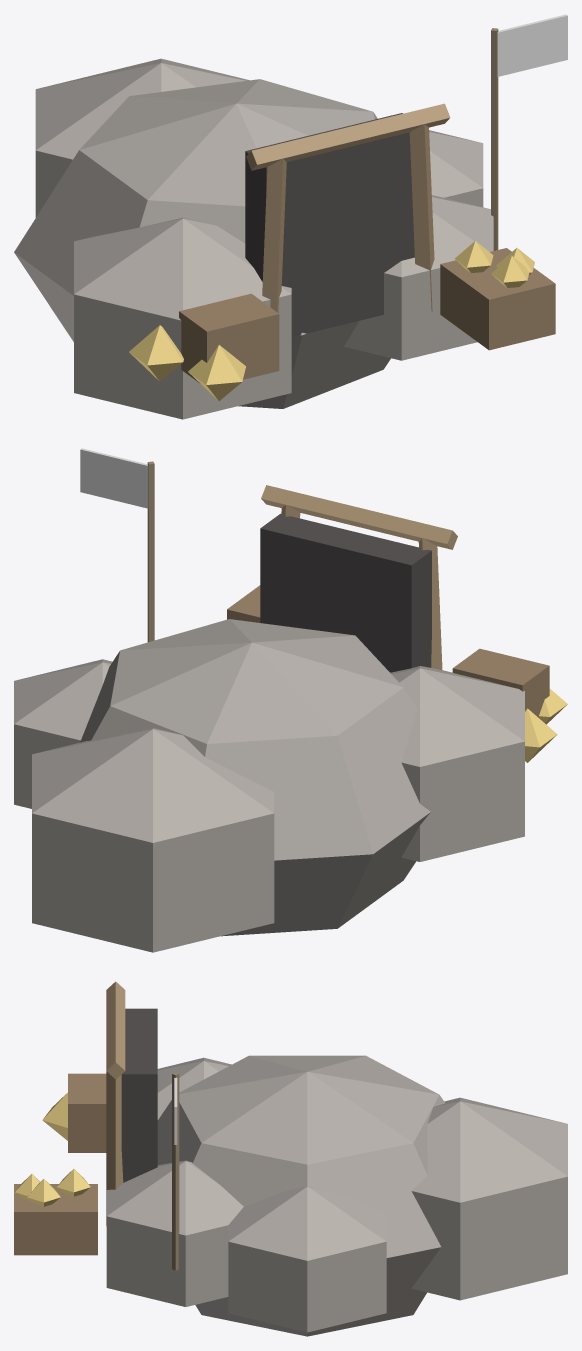
3 renders of one model, top to bottom at view 1: azimuth 30°, elevation 25°; view 2: azimuth 150°, elevation 25°; view 3: azimuth 270°, elevation 25°, orthographic. The views are drawn at different scales.
Parts seen in each view (by area): view 1: body; view 2: body; view 3: body.
Boxes of the visible parts, x1,y1,x2,y2 form: body: (14, 14, 567, 419); body: (14, 448, 567, 952); body: (14, 981, 567, 1336).
Bounding box in the file's own units: 7.89 × 5.84 × 9.25.
